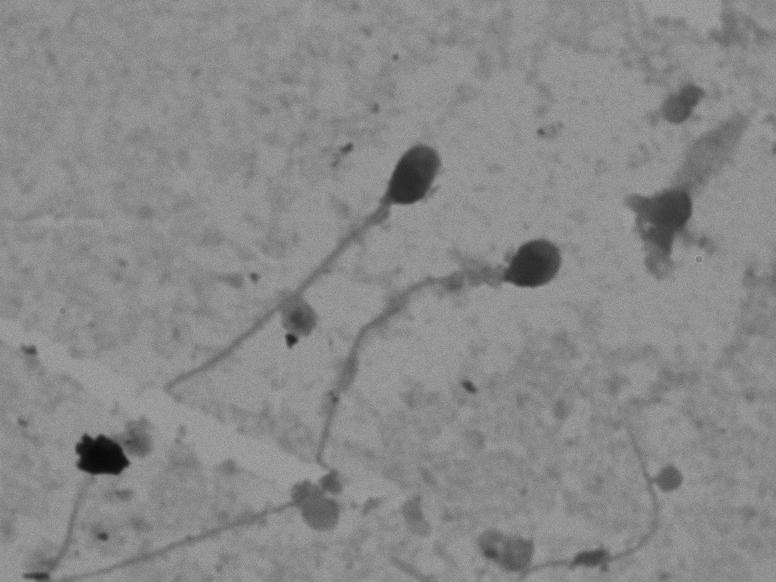Abnormal: (93, 214, 600, 578), (140, 125, 473, 424)
